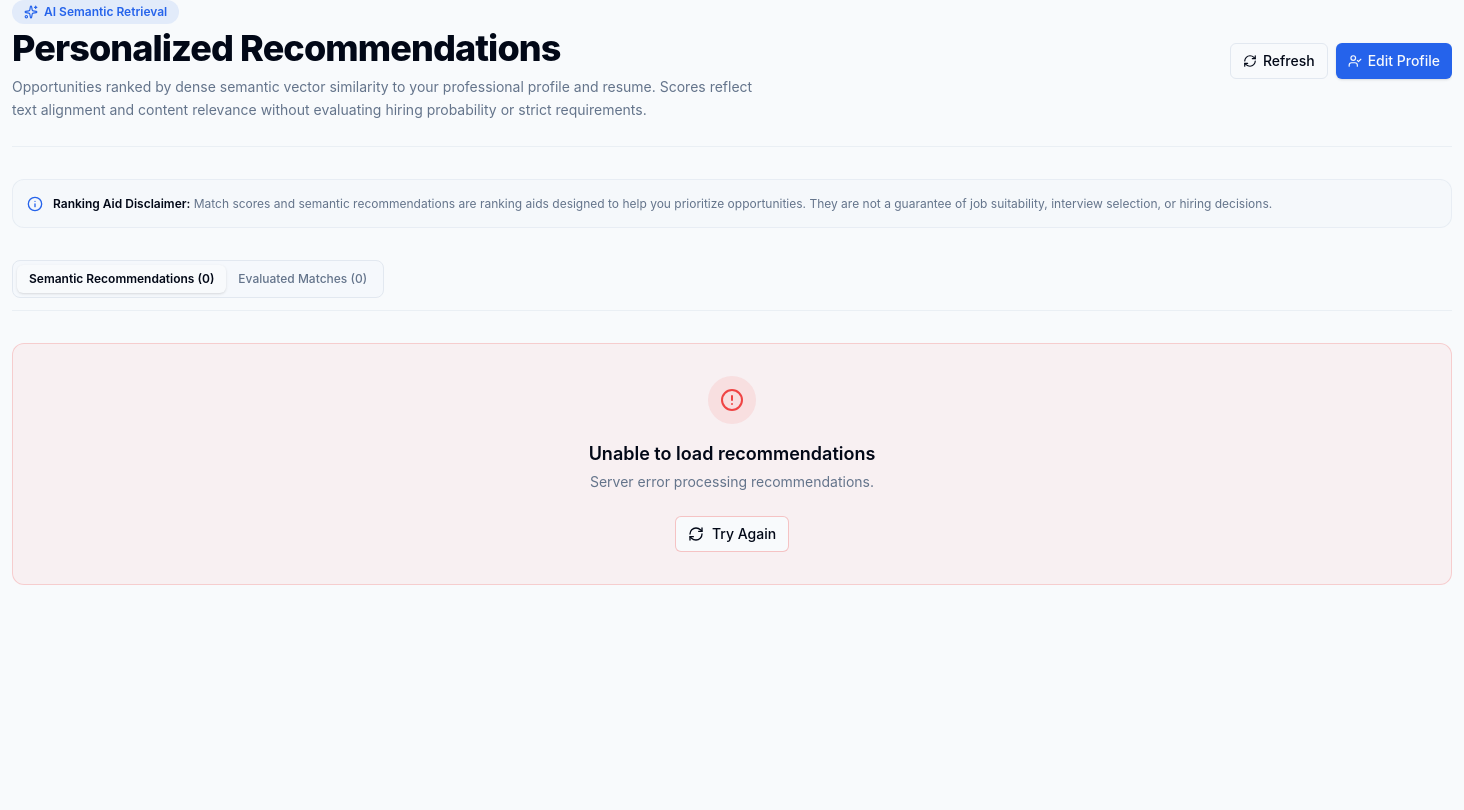
Test: Phase 18 — RecommendationsPage Integration › displays server error and enables retry on 500 error
Expected: the heading "Unable to load recommendations" is shown, [589, 440, 875, 468]
Click the button "Try Again": x=732, y=534 [675, 516, 789, 552]
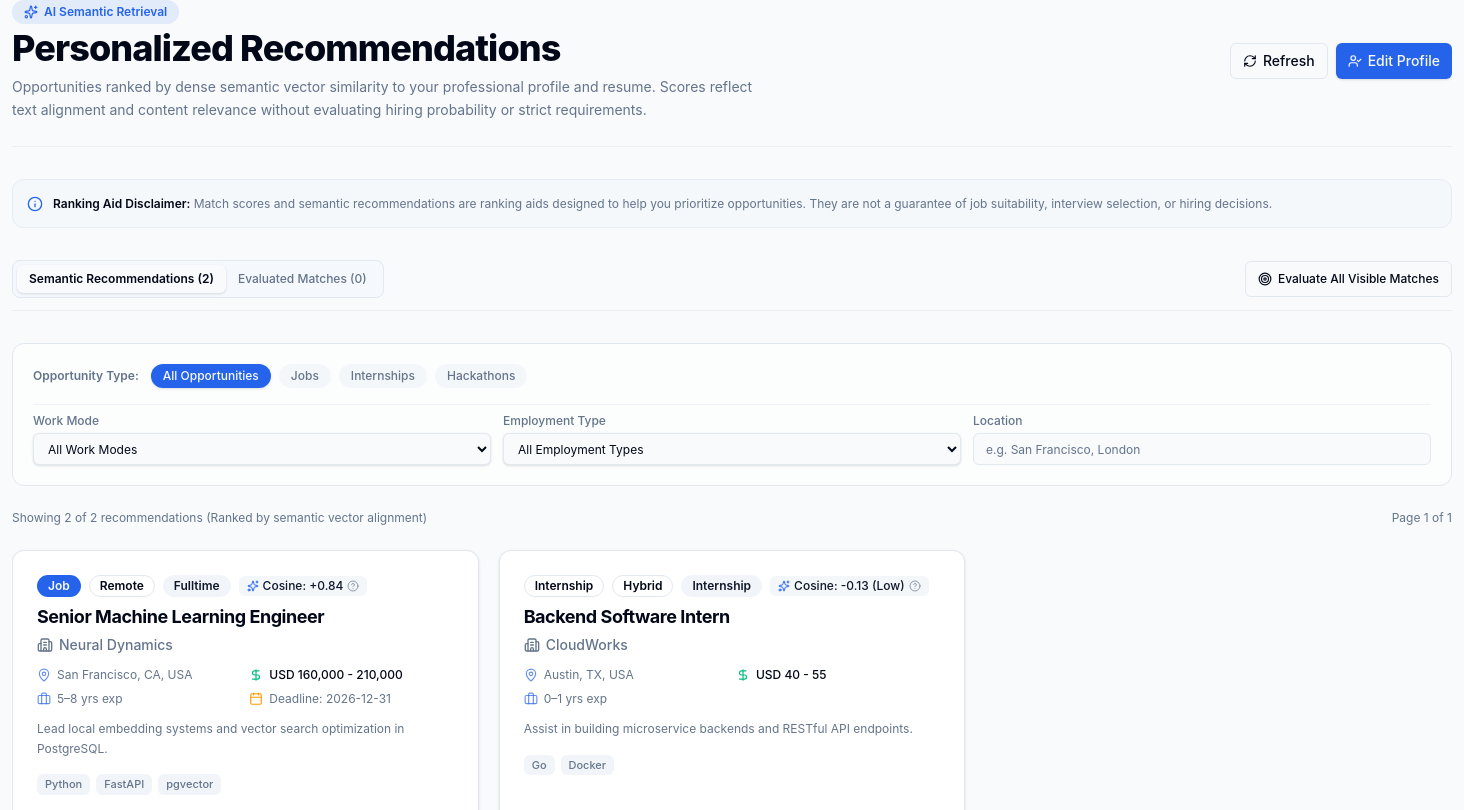
Result: the link "Senior Machine Learning Engineer" is shown at [37, 606, 324, 627]
